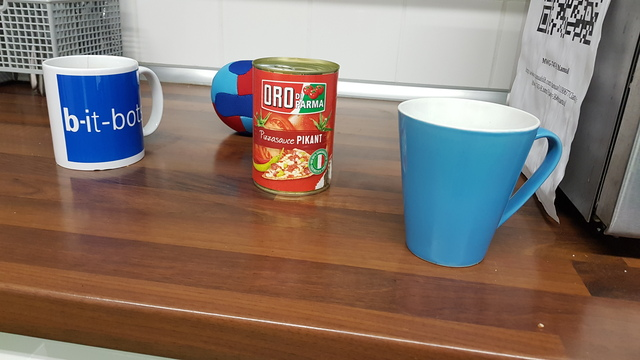005_tomato_soup_can: (250, 56, 341, 198)
025_mug: (393, 96, 564, 269), (39, 54, 164, 172)
057_racquetball: (209, 57, 253, 139)
